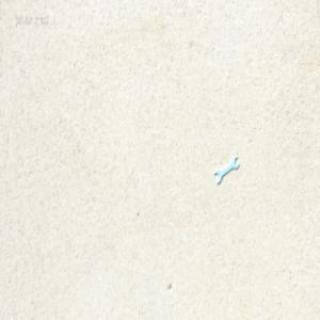Wrenchtrack_idkeyframe: (213, 154, 239, 182)
